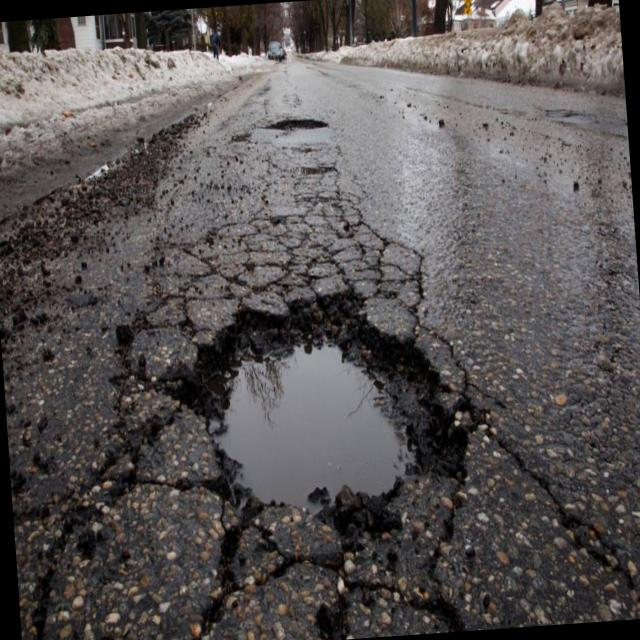Potholes: (188, 274, 462, 538), (258, 99, 330, 145)
